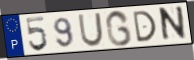5: (25, 15, 49, 53)
9: (52, 16, 75, 49)
D: (131, 10, 158, 44)
G: (104, 9, 134, 47)
N: (160, 5, 188, 44)
U: (77, 12, 105, 48)
